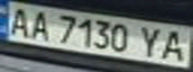0: (109, 20, 133, 54)
1: (72, 15, 96, 48)
3: (90, 17, 115, 52)
7: (51, 11, 78, 45)
A: (157, 27, 193, 62), (3, 3, 36, 37), (24, 8, 54, 42)
Y: (136, 24, 166, 58)
